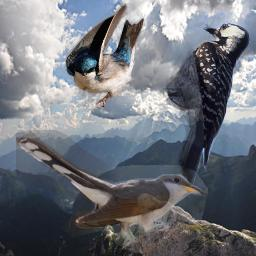Cuckoo: (16, 130, 208, 253)
Swallow: (65, 3, 145, 110)
Woodpecker: (163, 14, 250, 205)
